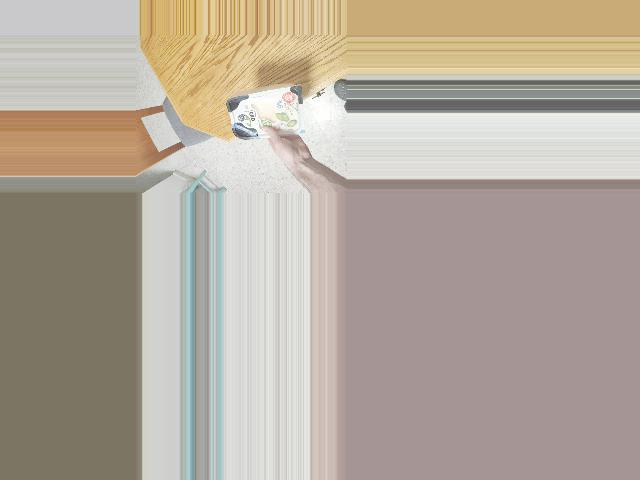cheese: (227, 80, 309, 153)
